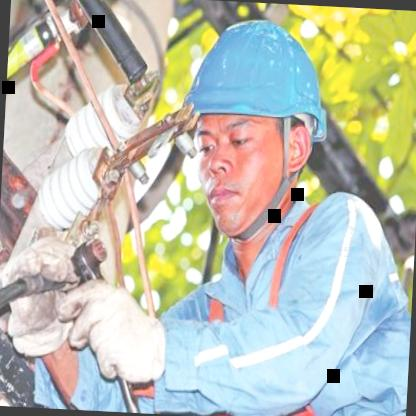helmet: (172, 7, 336, 245)
